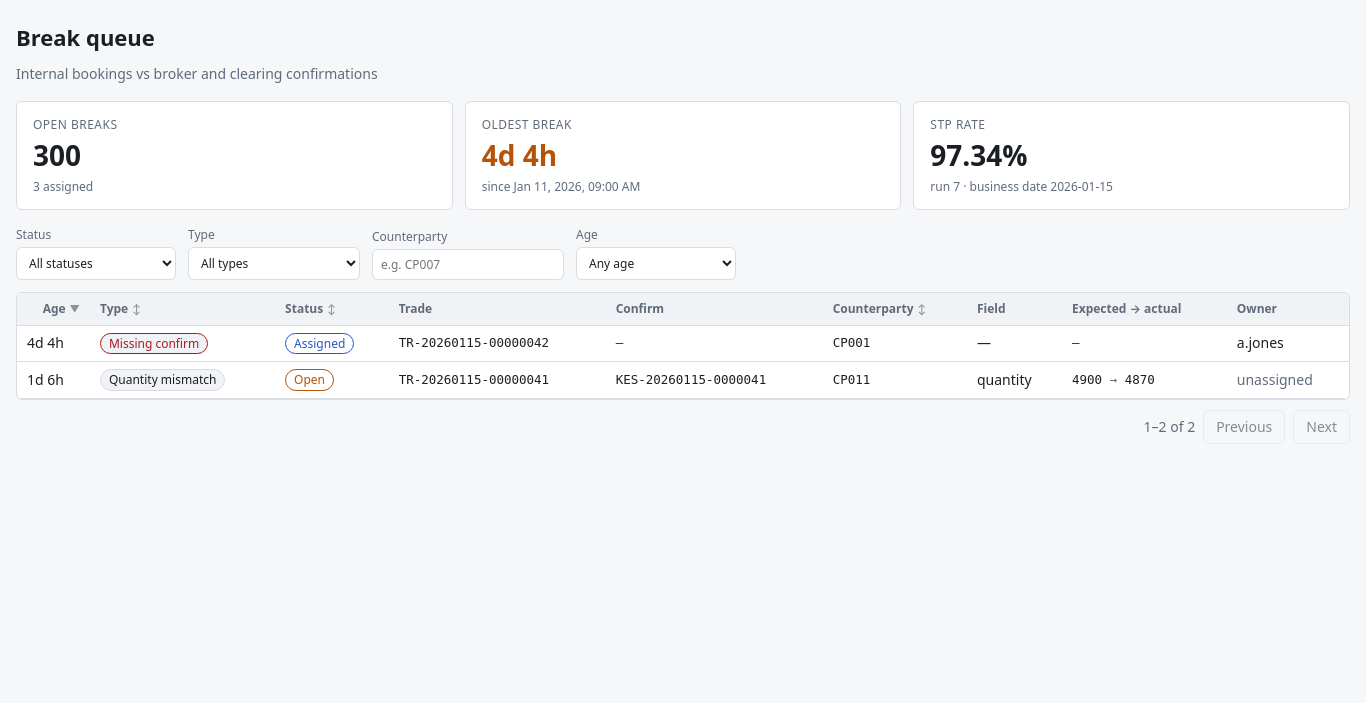
Scenario: break drawer › explains a conflicting edit and offers to reload
Click the row named "Break 41". click: {"x": 683, "y": 380}
box: 17,362 -> 1349,398
(page scrolled)
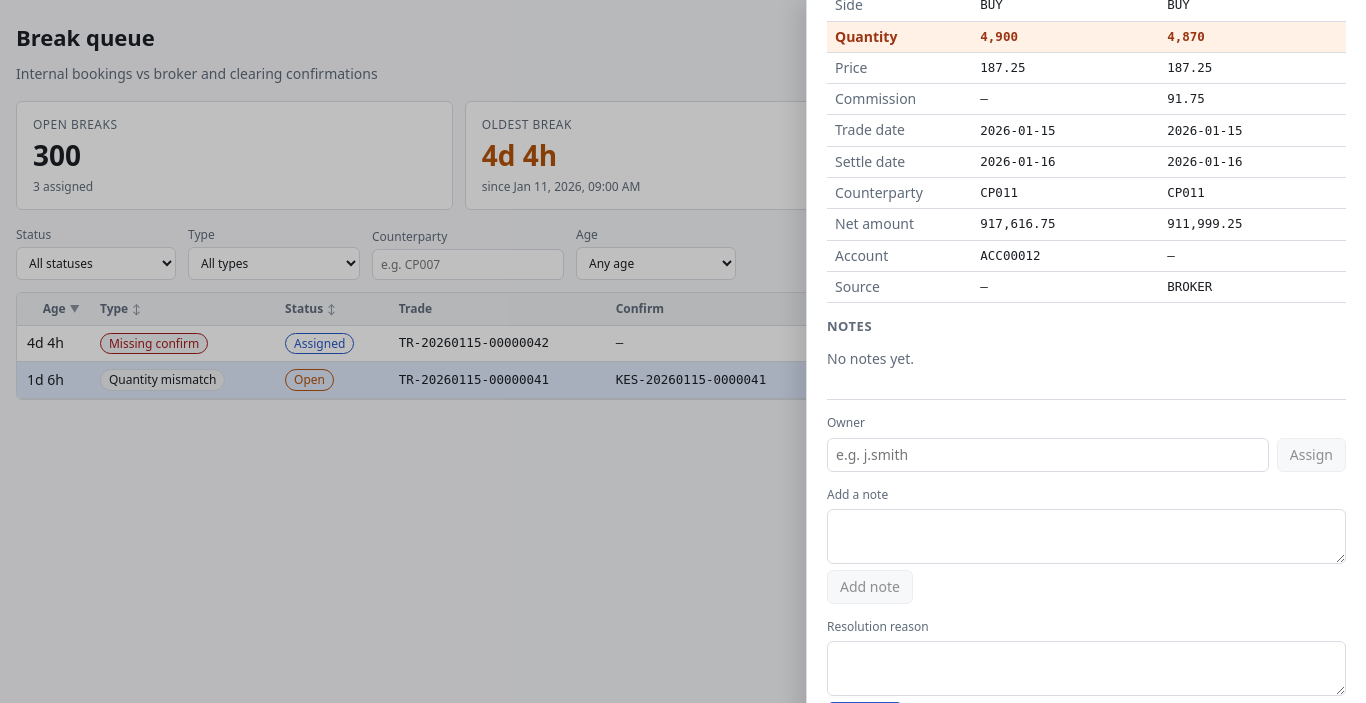
Type "Chasing broker" into the text box labelled "Add a note". click: {"x": 1086, "y": 536}
box: 827,509 -> 1346,564
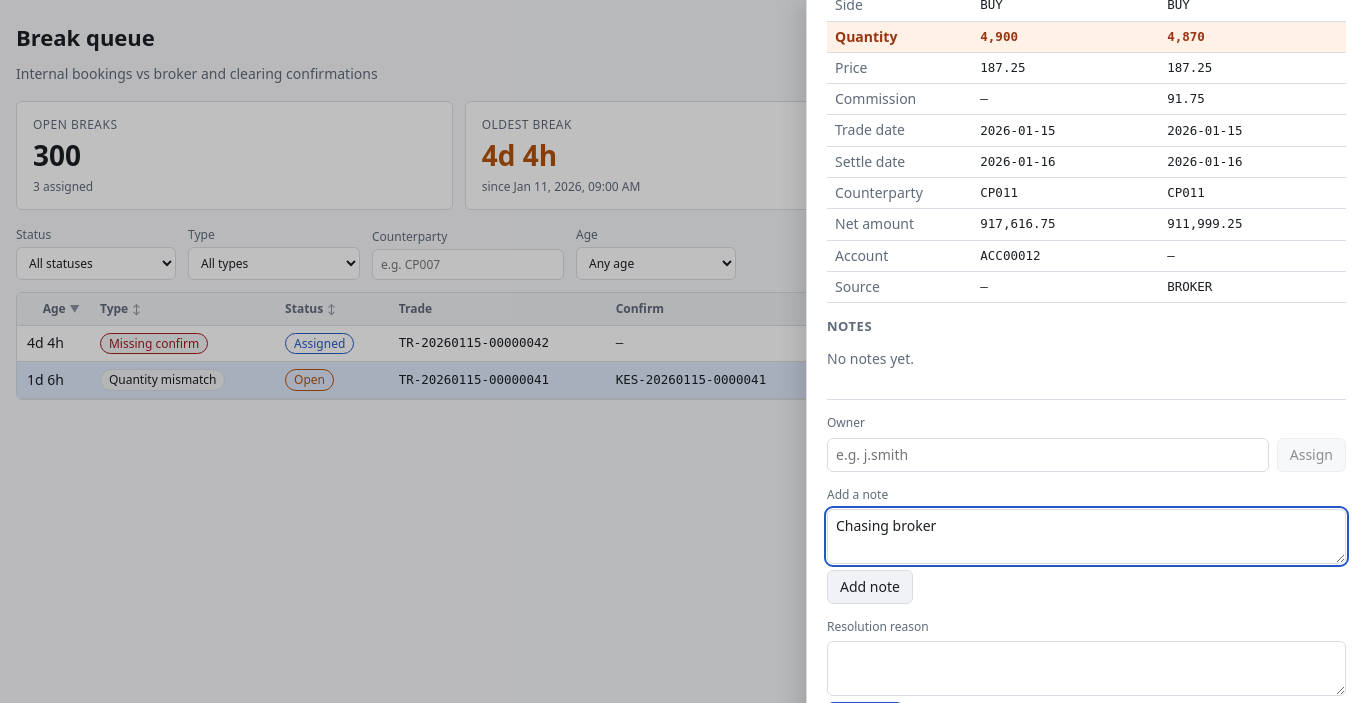
Click the button "Add note". click: {"x": 870, "y": 587}
box: 827,570 -> 913,604
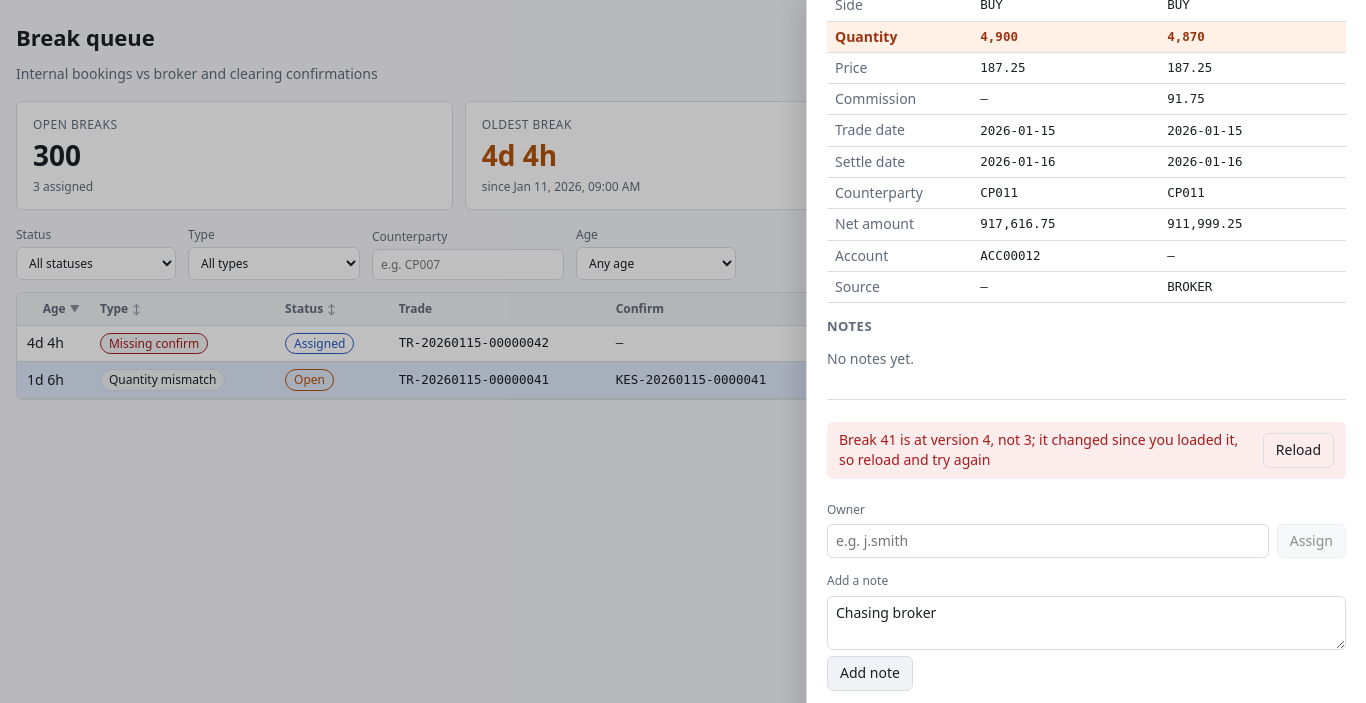
Now the message shows "it changed since you loaded it", box 839,430 -> 1238,469
Now the button "Reload" is shown, box 1263,433 -> 1334,468
